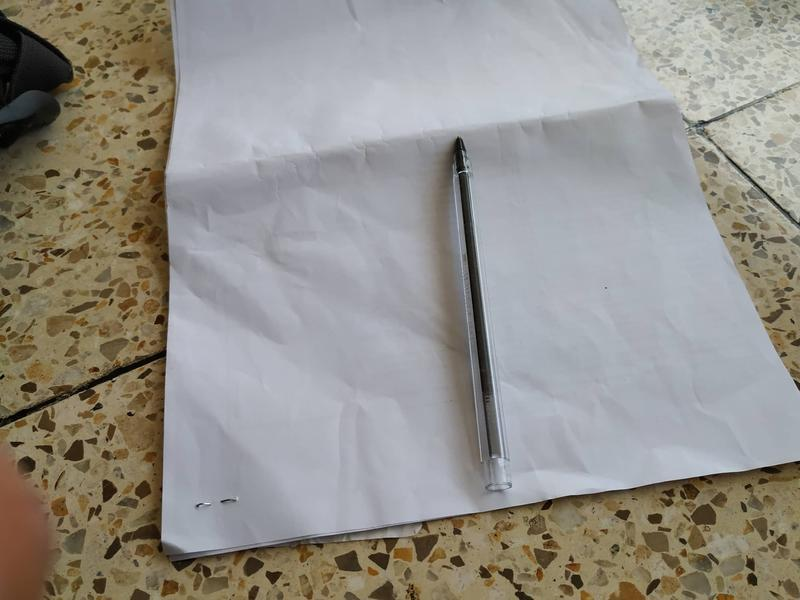qillqana: (430, 125, 523, 503)
